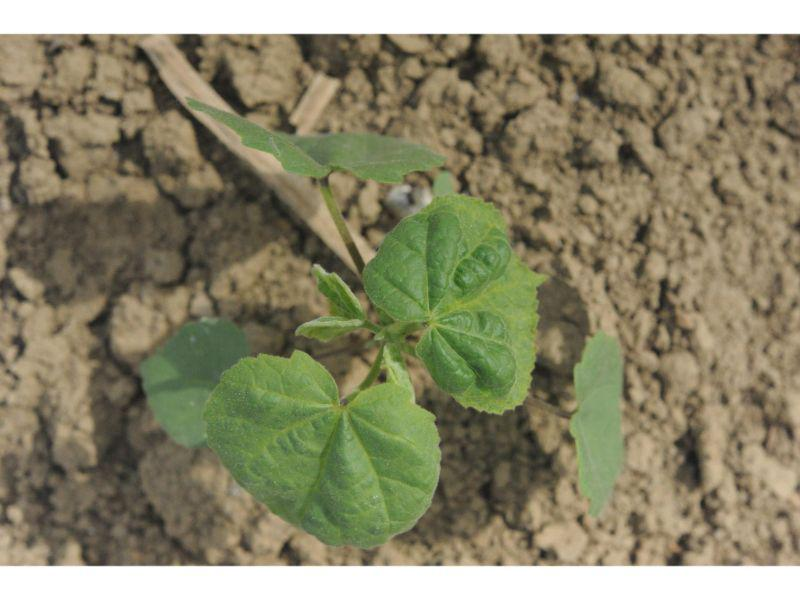velvet: (139, 96, 626, 551)
